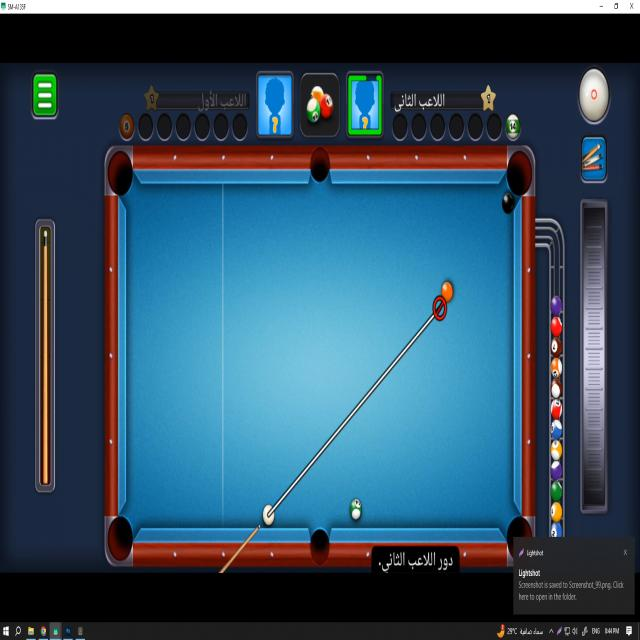object_ball: (441, 282, 453, 303), (502, 192, 514, 213), (350, 499, 361, 520)
white_cue_ball: (262, 503, 274, 527)
